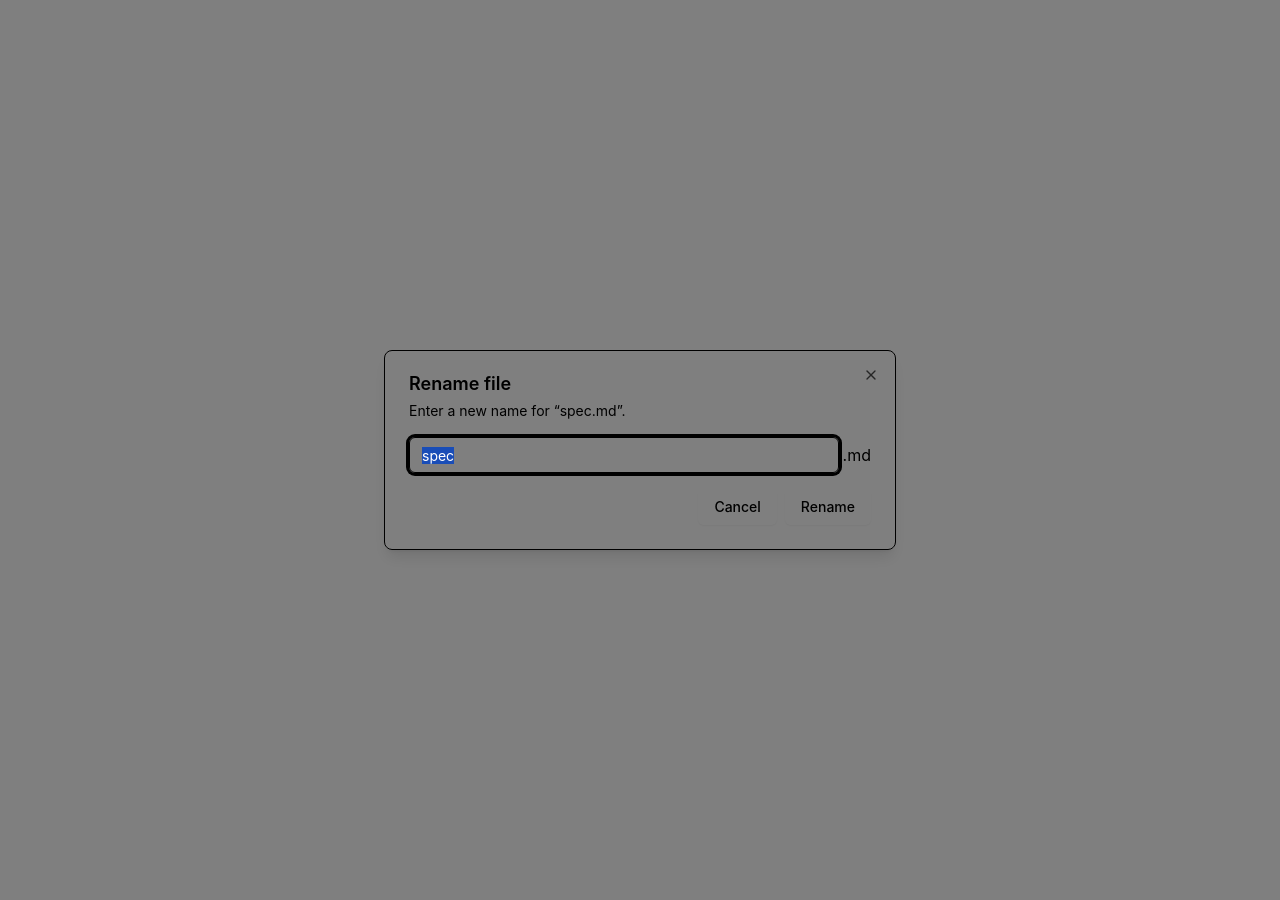
Scenario: RenameDialog › a name collision keeps the dialog open with the server's message
The image size is (1280, 900).
Step 1. Replace the text in the field named "New name" with "taken" → (624, 455), box [409,437,839,473]
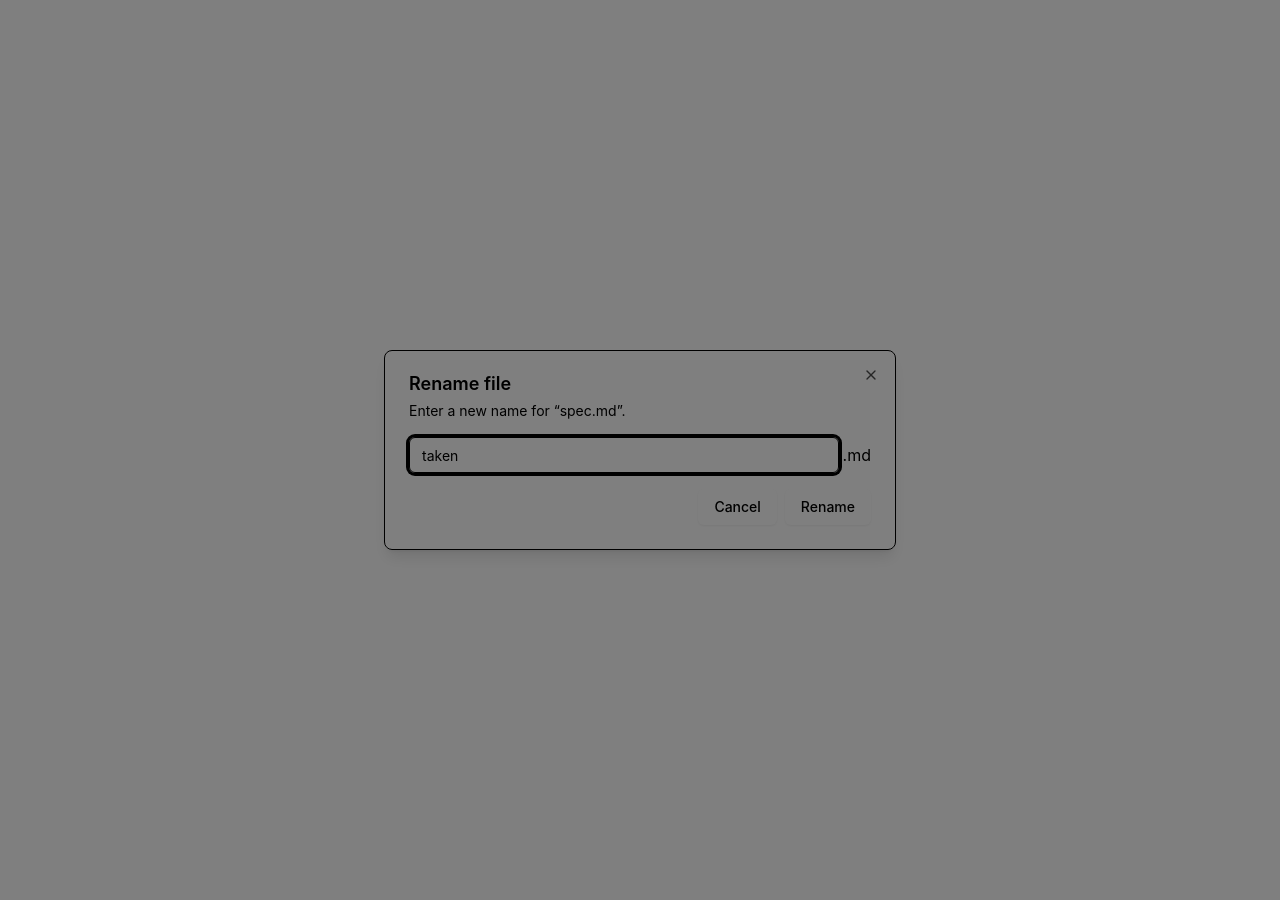
Step 2. Click the button "Rename" → (828, 507), box [785,489,871,525]
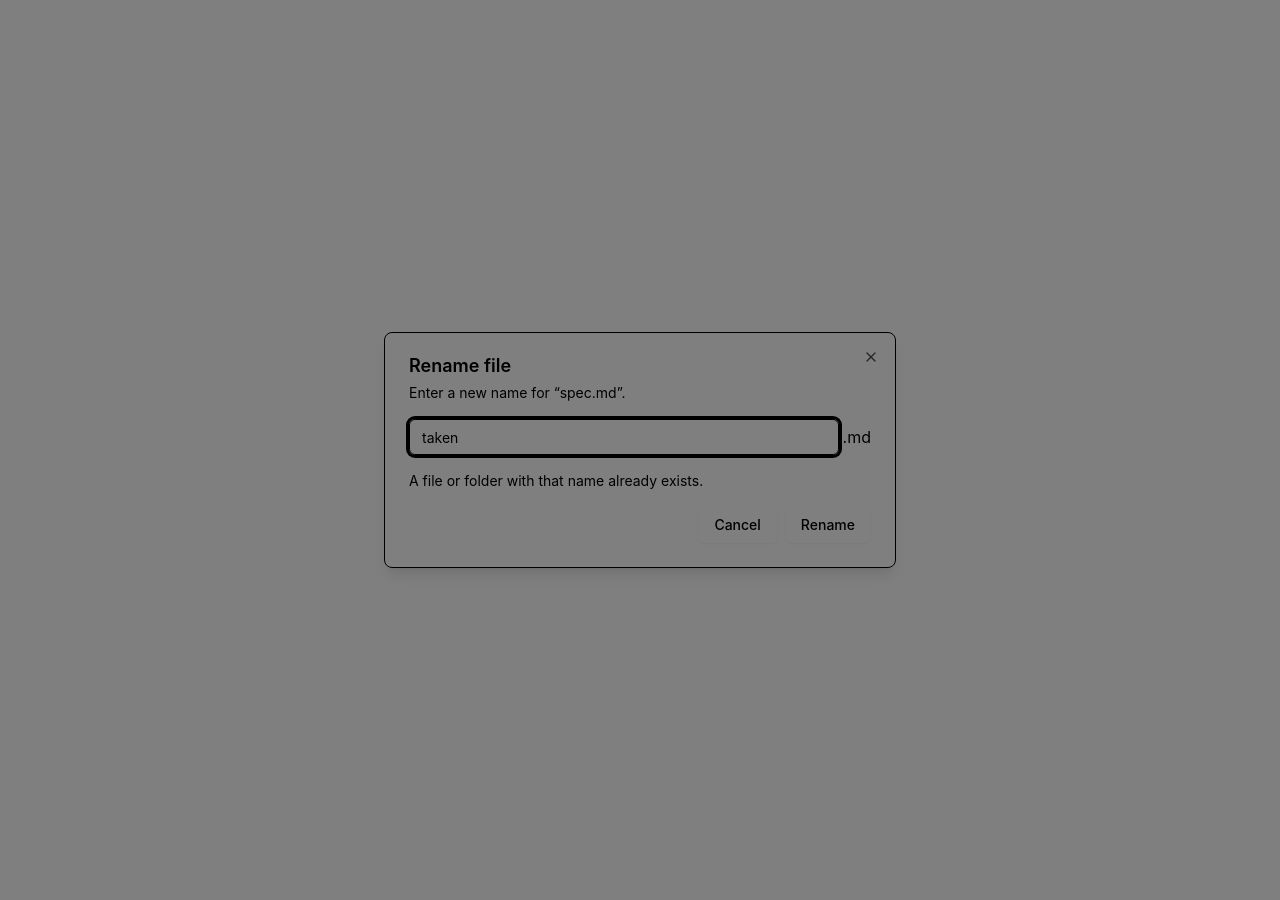
Result: the message reads "A file or folder with that name already exists." at [409,472,703,489]
